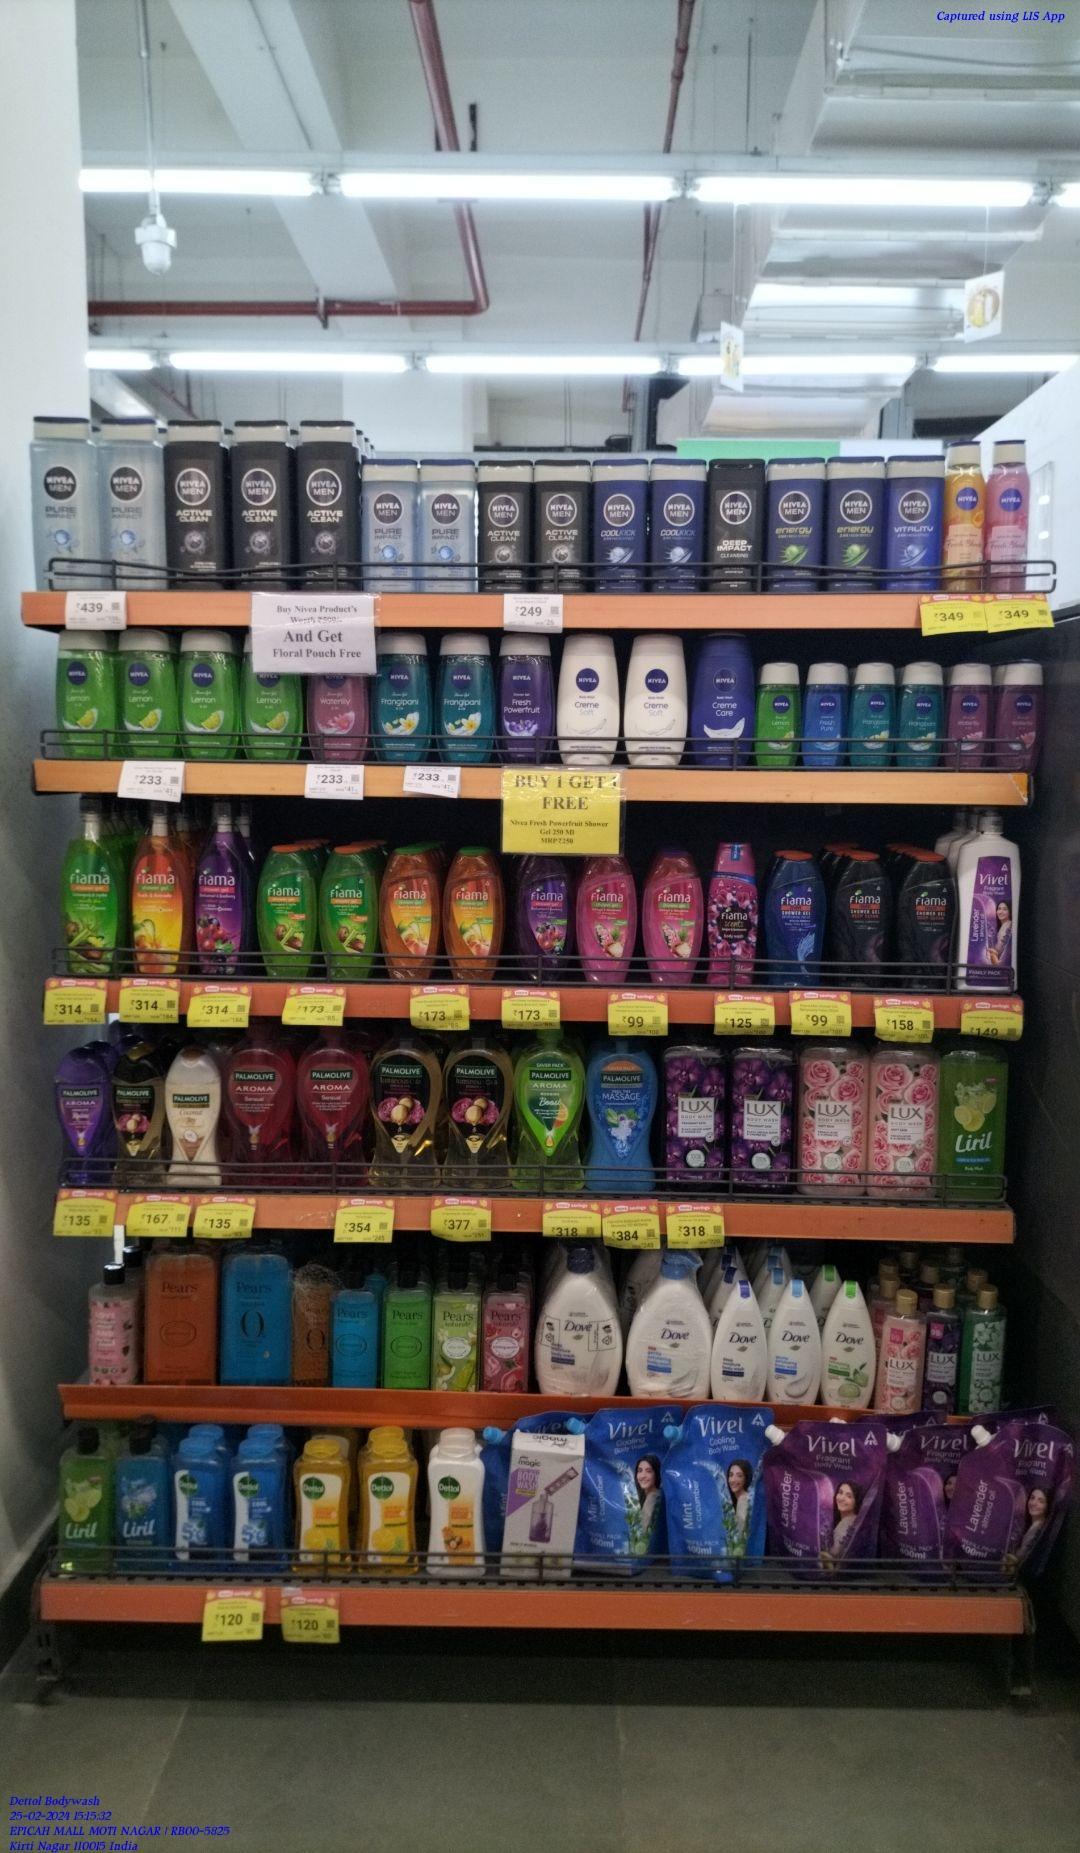Dettol_Bodywash_Cool: (230, 1444, 288, 1573), (172, 1441, 228, 1572)
Dettol_Bodywash_Refresh: (359, 1438, 419, 1577), (292, 1442, 351, 1577)
Dettol_Nourish_Body_Wash_250ML: (426, 1432, 485, 1578)
Dove_Deep_Moisture_Body_Wash_250ML: (712, 1281, 768, 1401)
Dove_Gentle_Exfoliating_Body_Wash_250ML: (771, 1282, 820, 1402)
Dove_Refreshing_Body_Wash_250ML: (824, 1284, 877, 1410)
Fiama_Shower_Gel_Lemongrass_and_Jojoba_250ML: (258, 849, 318, 974), (325, 849, 373, 979)
Fiama_Shower_Gel_Patchouli_and_Macadamia_250ML: (645, 848, 702, 983), (580, 849, 635, 982)
Fiama_Shower_Gel_Peach_and_Avocado_250ML: (445, 846, 499, 984), (386, 844, 435, 978)
Liril_Cooling_Mint_Body_Wash_250ML: (113, 1429, 168, 1578)
Liril_Lime_and_Tea_Tree_Oil_Body_Wash_250ML: (58, 1433, 111, 1566)
Nivea_Shower_Gel_Frangipani_and_Oil_250ML: (373, 634, 429, 766), (438, 634, 492, 767)
Nivea_Shower_Gel_Fresh_Powerfruit_250ML: (500, 636, 554, 761)
Nivea_Shower_Gel_Lemon_and_Oil_250ML: (118, 628, 179, 757), (53, 627, 112, 754), (183, 630, 238, 759), (242, 652, 302, 761)
Nivea_Shower_Gel_Waterlily_and_Oil_250ML: (311, 671, 366, 763)
Palmolive_Aroma_Relax_250ML: (55, 1049, 111, 1186)
Palmolive_Coconut_Joy_Exfoliating_Body_Wash_250ML: (168, 1051, 225, 1186)
Palmolive_Luminous_Oils_Invigorating_Macadamia_Oil_With_Peony_250ML: (113, 1046, 166, 1187)
Pears_Naturale_Aloe_Vera_Body_Wash_250ML: (435, 1270, 478, 1393)
Pears_Pure_Glycerin_and_Lemon_Flower_Extracts_Body_Wash_250ML: (384, 1272, 432, 1390)
Pears_Pure_Glycerin_and_Mint_Extracts_Body_Wash_250ML: (328, 1279, 378, 1387)
